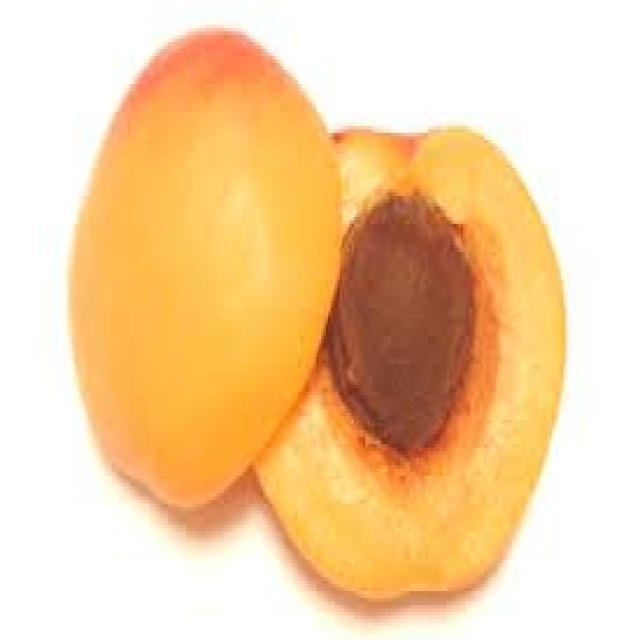Apricot: (46, 11, 592, 620)
